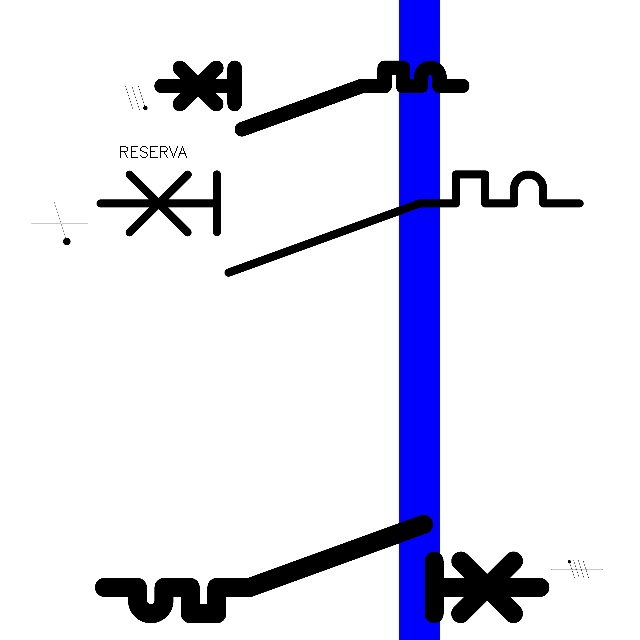interruptor_termomagnetico: (87, 162, 591, 285), (93, 513, 551, 625), (153, 60, 469, 137)
